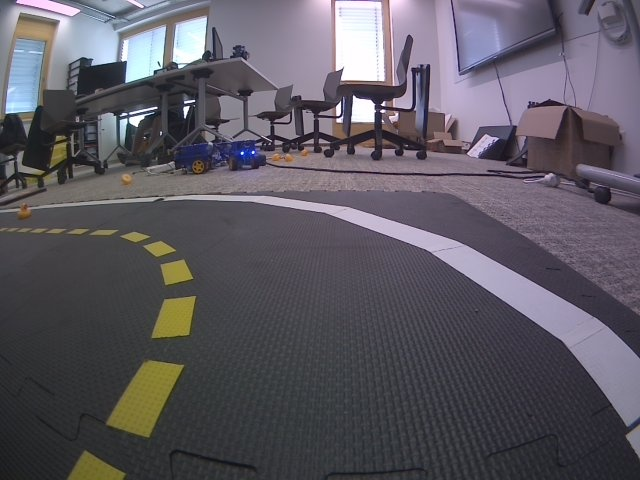Bot: (174, 143, 213, 175), (226, 140, 260, 171), (231, 45, 248, 60)
